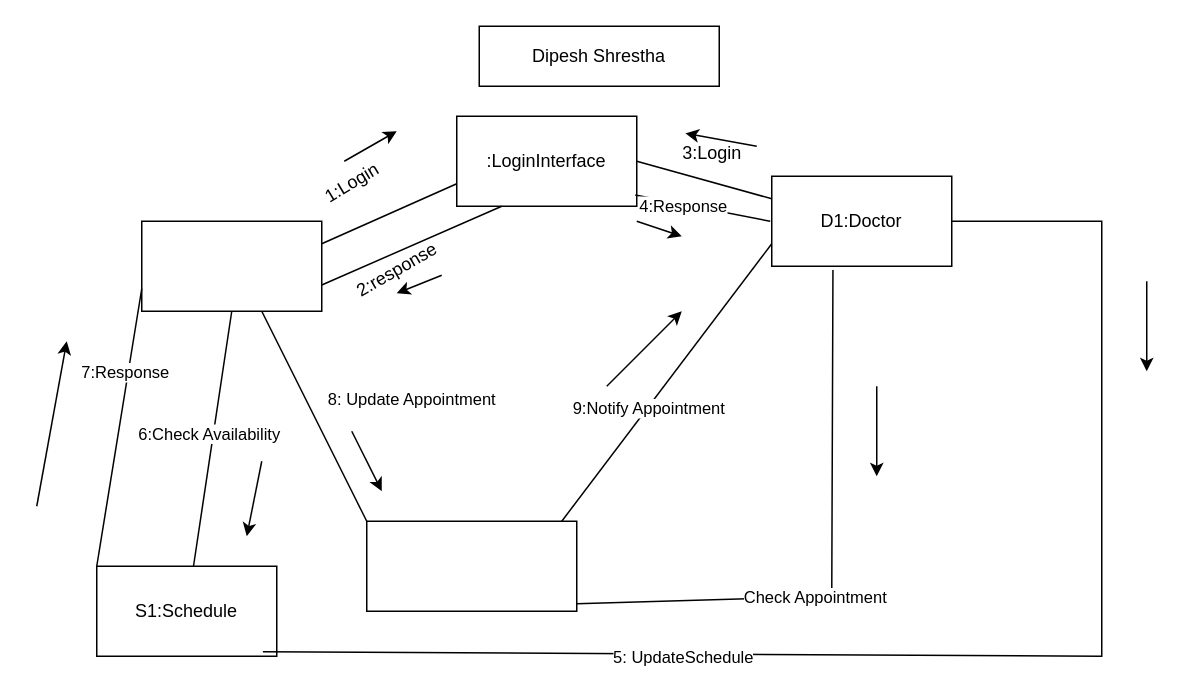
Some shapes in this 1185 by 695 pixel diagram are drawn without their labels. The box of each missing label's shape, as (x1, y1, x2, y2) in pixels:
A1:AppointmentRecords: (365, 520, 577, 611)
S1:Staff: (140, 220, 322, 311)
